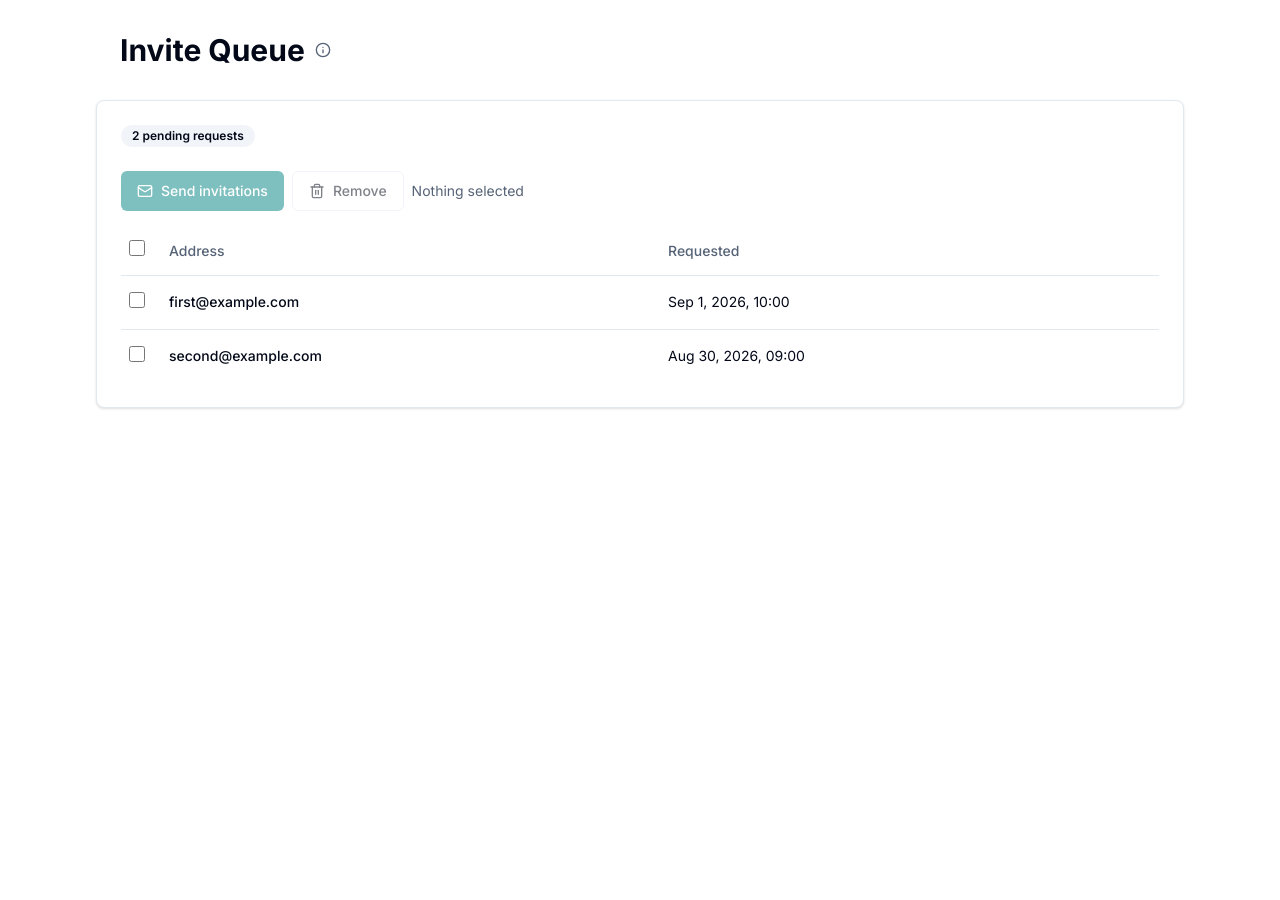
Scenario: sending invitations › refetches the queue and clears the selection afterwards
Expected: the text "first@example.com" is shown, [161,275,660,329]
Step 1. Click the checkbox named "Select first@example.com" → point(137, 300), box [129,292,145,308]
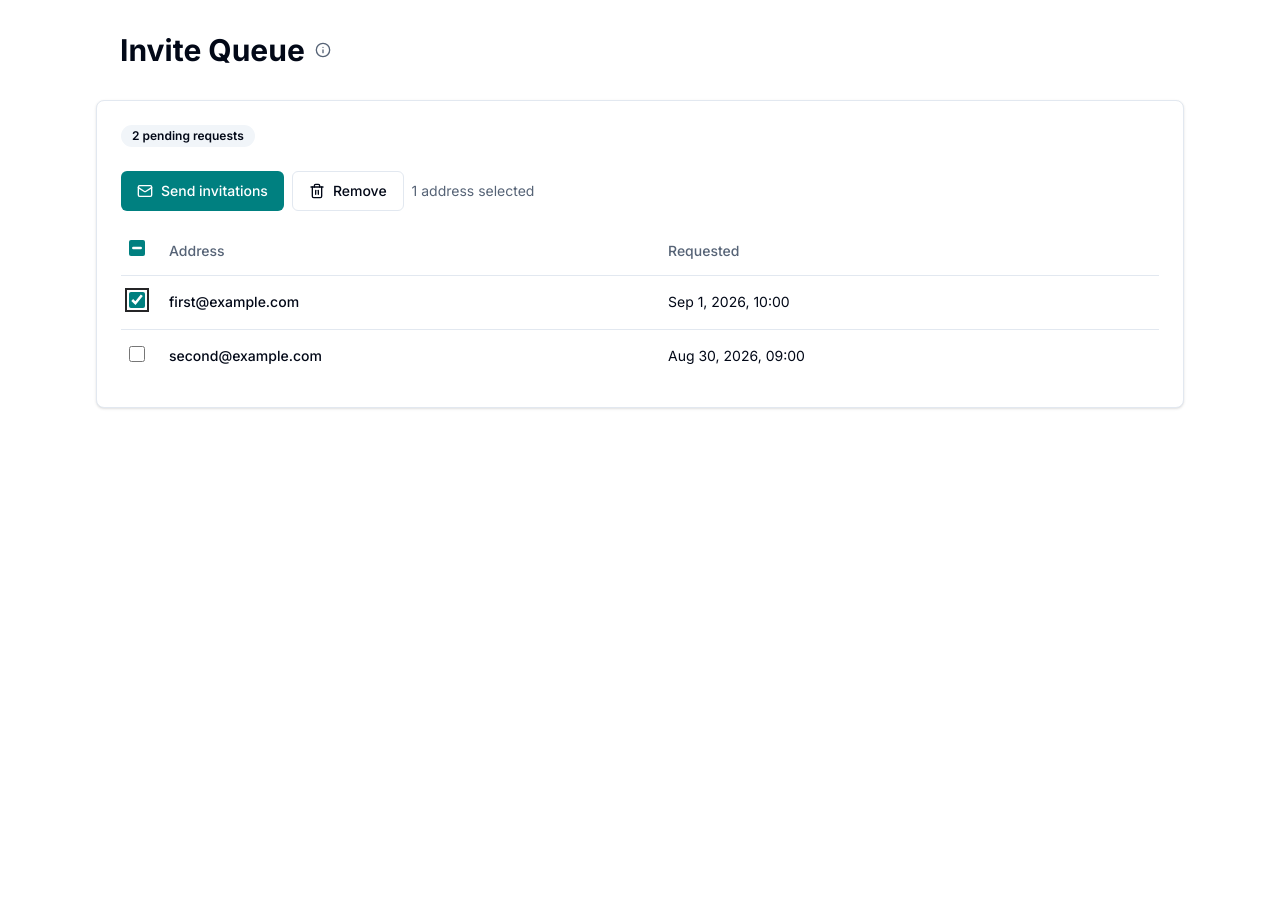
Step 2. Click the button "Send invitations" → point(202, 191), box [121,171,284,211]
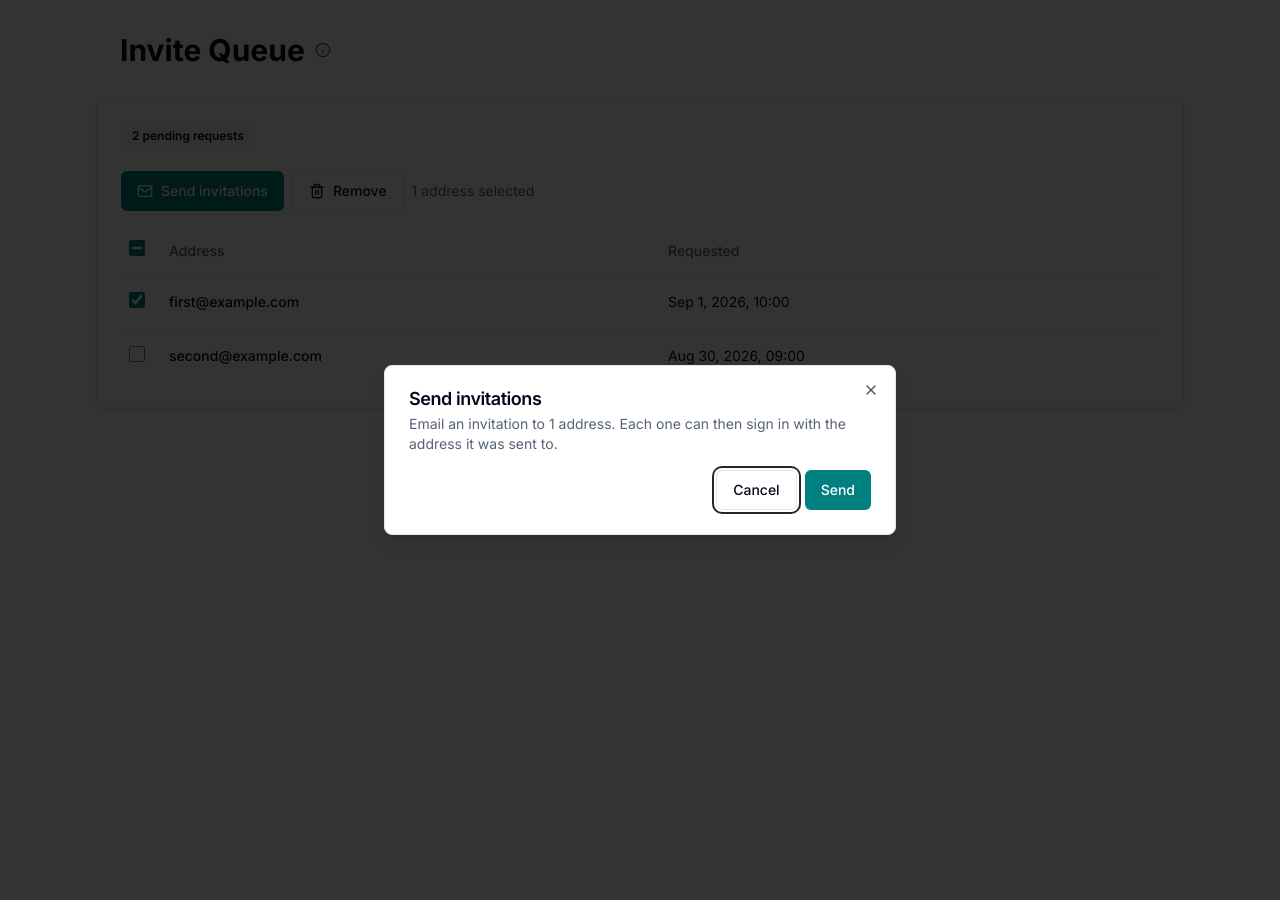
Step 3. Click the button "Send" → point(838, 490), box [805,470,871,510]
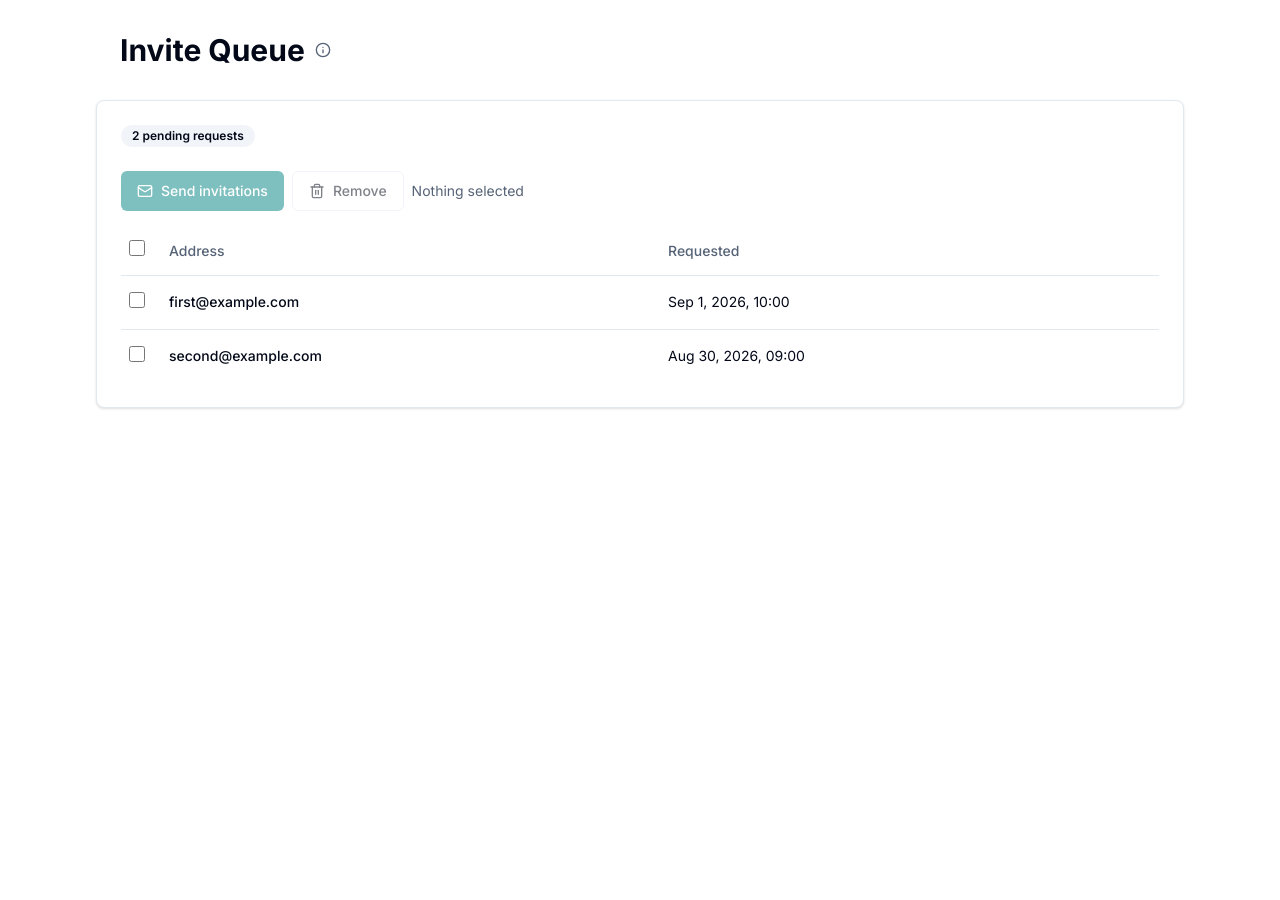
Result: the checkbox named "Select first@example.com" is not checked at [129,292,145,308]
Result: the button "Send invitations" is disabled at [121,171,284,211]
